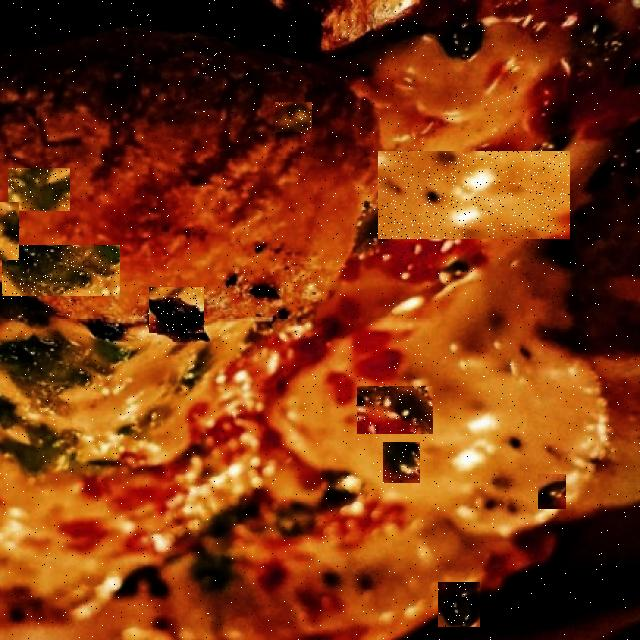Basil: (2, 245, 120, 296), (357, 386, 433, 434), (8, 168, 70, 211), (150, 287, 206, 333), (438, 582, 480, 627), (383, 442, 420, 483), (276, 102, 314, 132), (0, 202, 19, 260), (538, 474, 566, 509), (197, 48, 227, 78)
Cheese: (378, 151, 570, 239)
Pizza: (0, 0, 640, 640)
